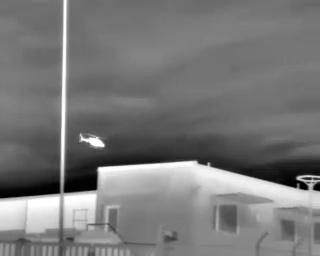HELICOPTER: (75, 127, 113, 156)
